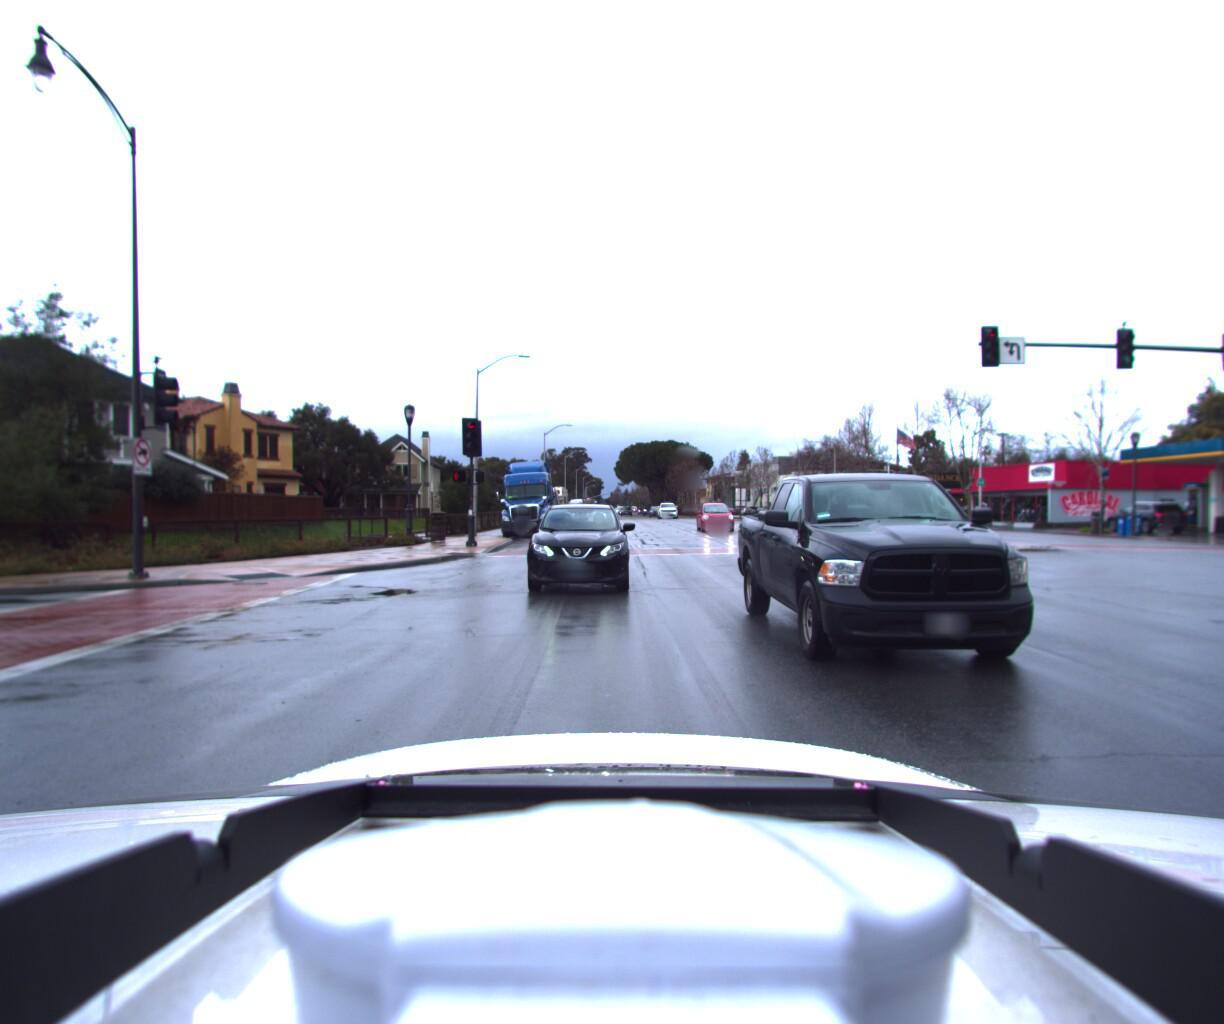car: (743, 447, 1155, 727), (515, 503, 623, 599), (1097, 499, 1188, 533), (1172, 503, 1224, 540), (694, 504, 742, 537), (656, 504, 679, 524)
other_vehicle: (525, 481, 568, 530)
truck: (491, 455, 556, 540)
